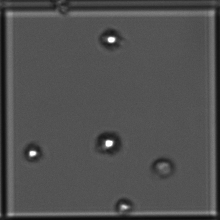Dead Cell: (149, 153, 175, 183), (51, 1, 72, 19)
Living Cell: (93, 129, 119, 162), (98, 27, 126, 57), (23, 139, 46, 165), (113, 192, 139, 212)
